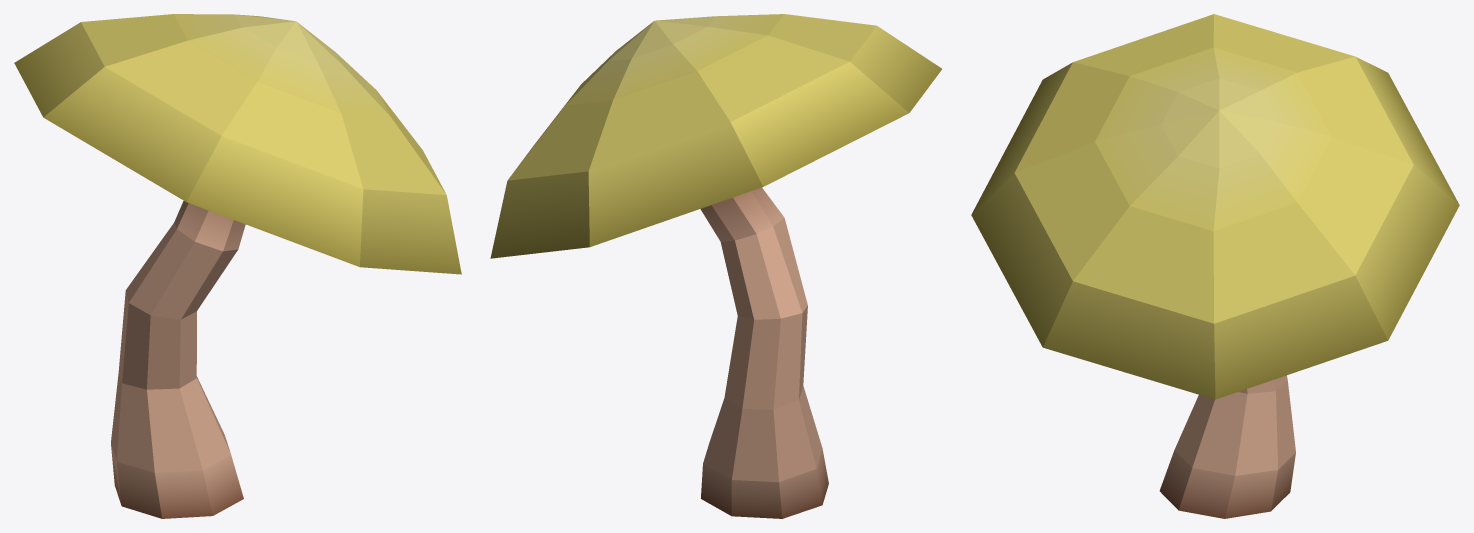
The model's file is Mushroom 1.fbx.
3 renders of one model, left to right at view 1: azimuth 30°, elevation 25°; view 2: azimuth 150°, elevation 25°; view 3: azimuth 270°, elevation 25°, orthographic. The views are drawn at different scales.
Parts seen in each view (by area): view 1: Mushroom 2; view 2: Mushroom 2; view 3: Mushroom 2.
Boxes of the visible parts, left/top/right/bottom form: Mushroom 2: left=14, top=14, right=461, bottom=518; Mushroom 2: left=490, top=14, right=941, bottom=518; Mushroom 2: left=971, top=14, right=1459, bottom=518.
Size of the model in its own units: 157 by 176 by 174.
